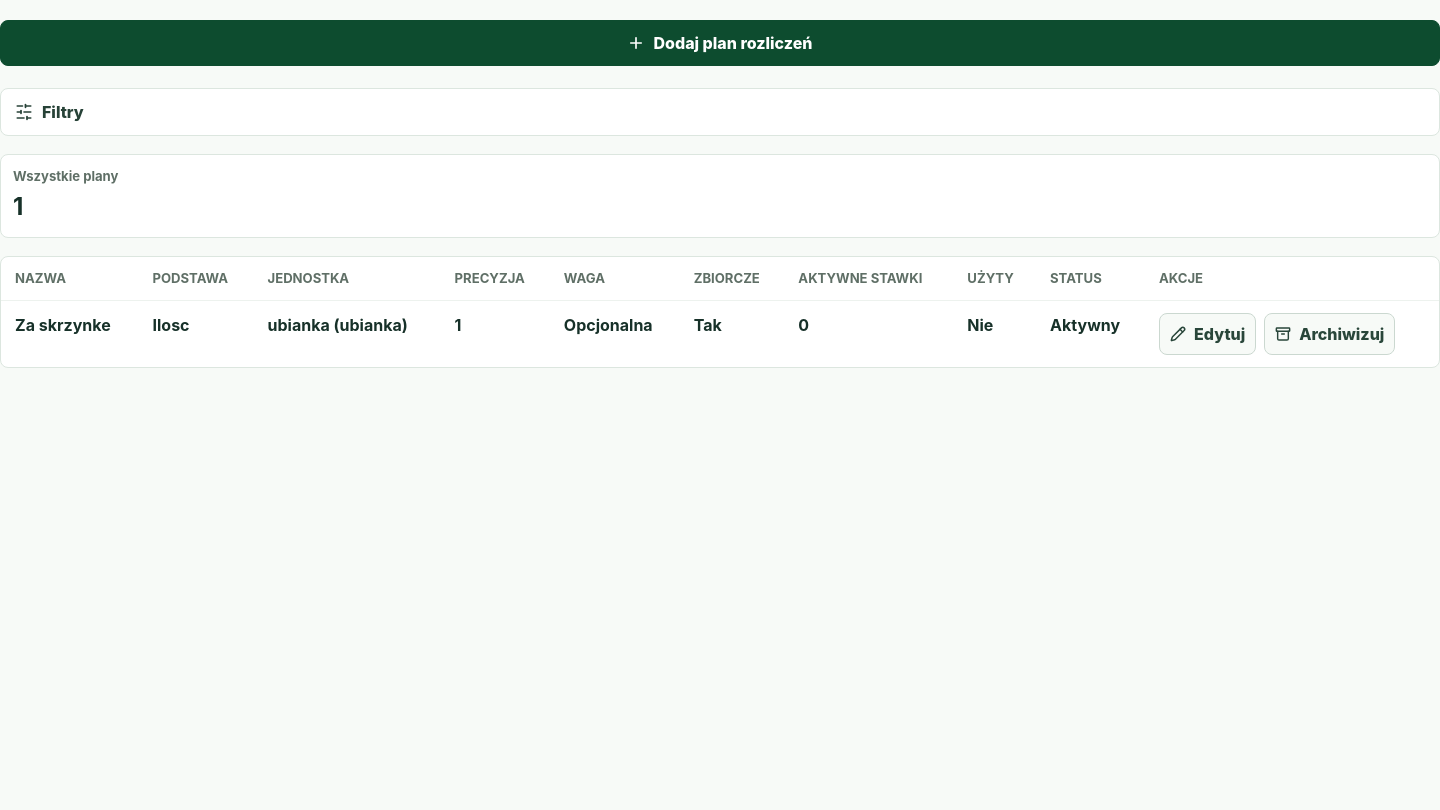
it: AdminSettlementPlansPanel › archives an active settlement plan after confirmation
Expected: the text "Za skrzynke" is shown, [15,315,111,335]
Click the button "Archiwizuj" at (1330, 334), box [1264,313,1395,355]
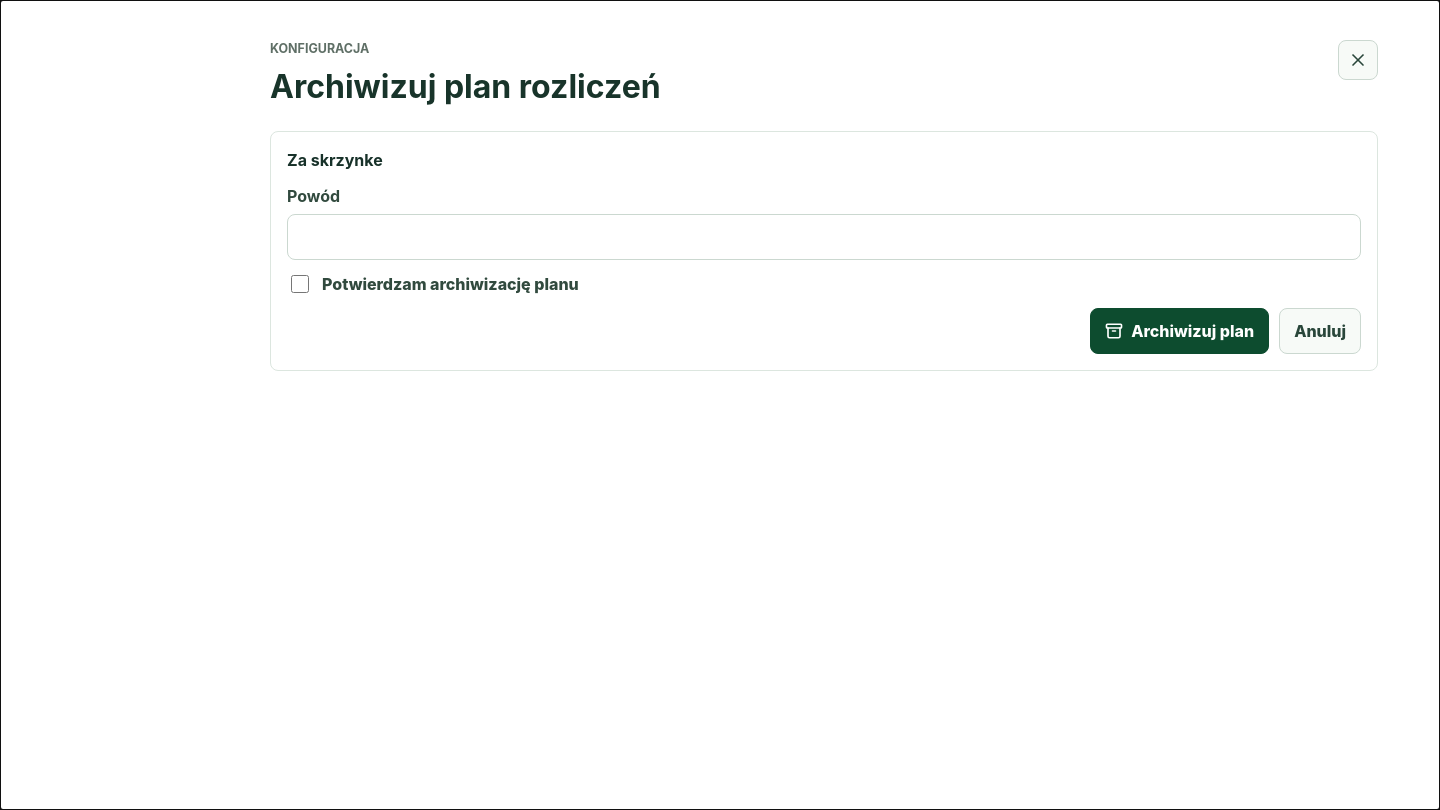
Type "Nie uzywamy w tym sezonie." into the field labelled "Powód" at (824, 237), box [287,214,1361,260]
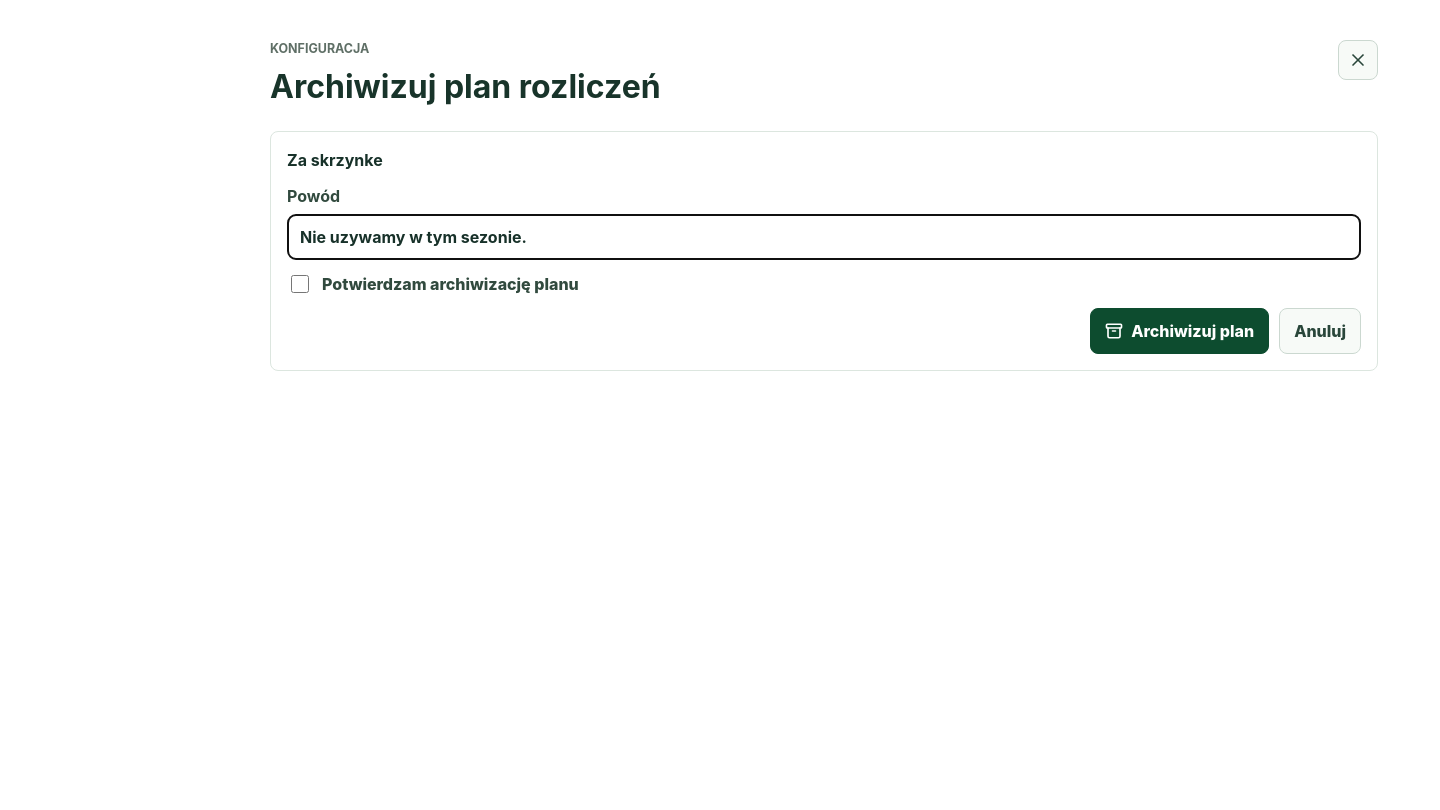
Click the checkbox labelled "Potwierdzam archiwizację planu" at (300, 284), box [291,275,309,293]
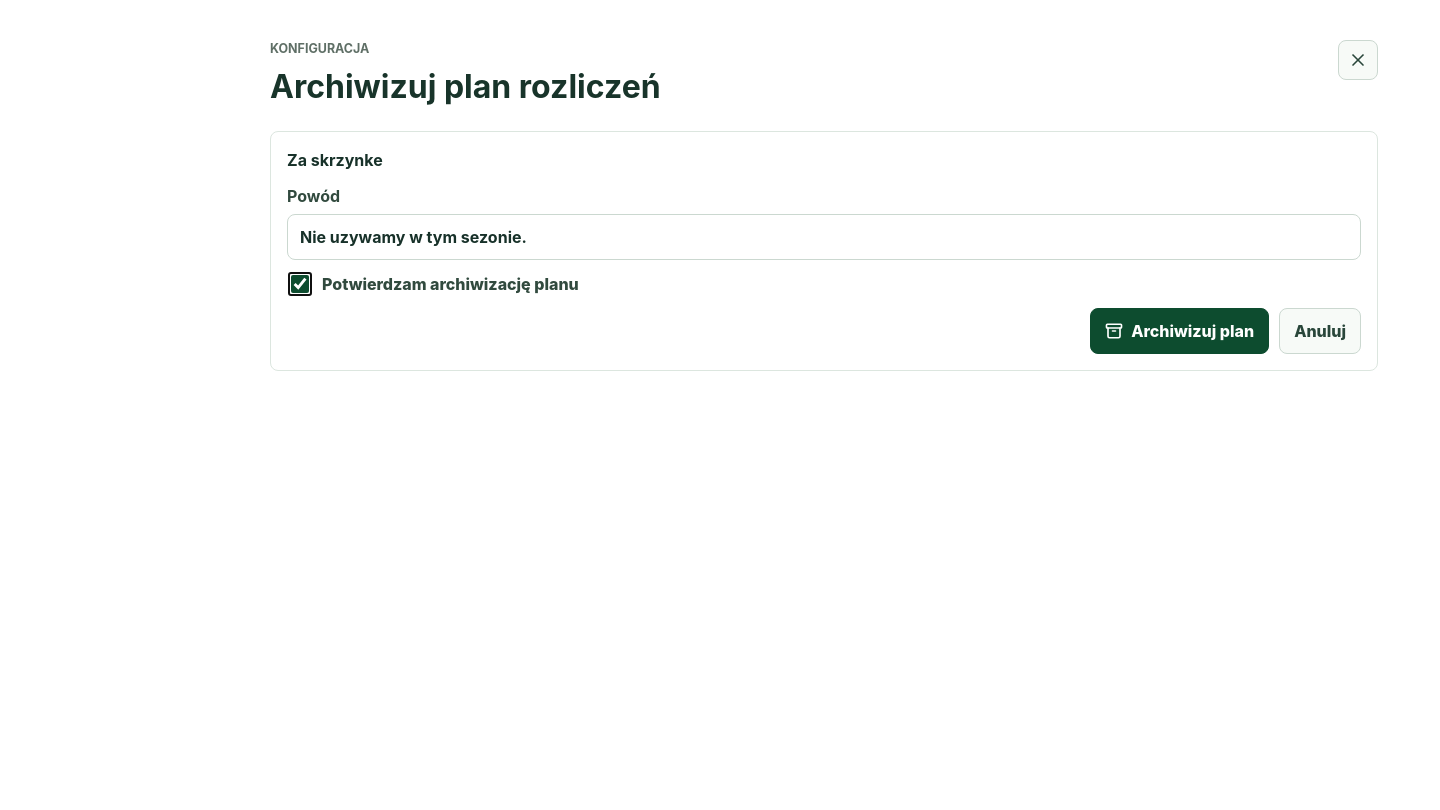
Click the button "Archiwizuj plan" at (1180, 331), box [1090,308,1269,354]
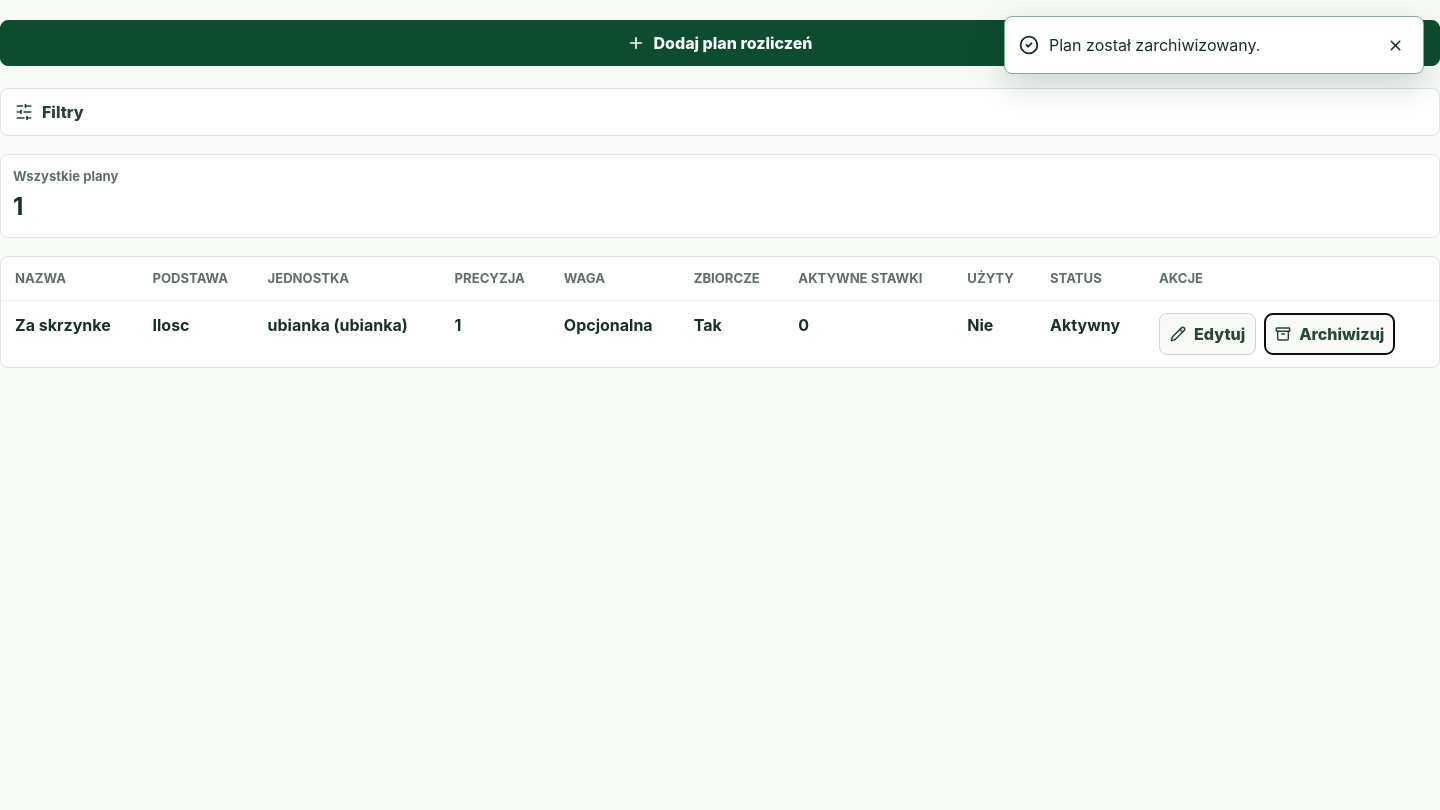
Expected: the text "Plan został zarchiwizowany." is shown, [1049,35,1260,55]
